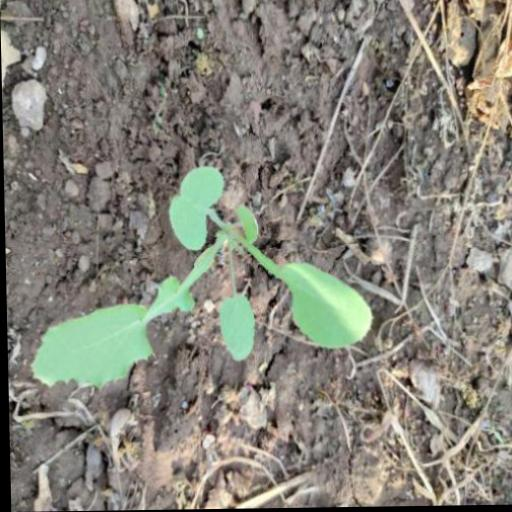weed: (20, 162, 397, 399)
